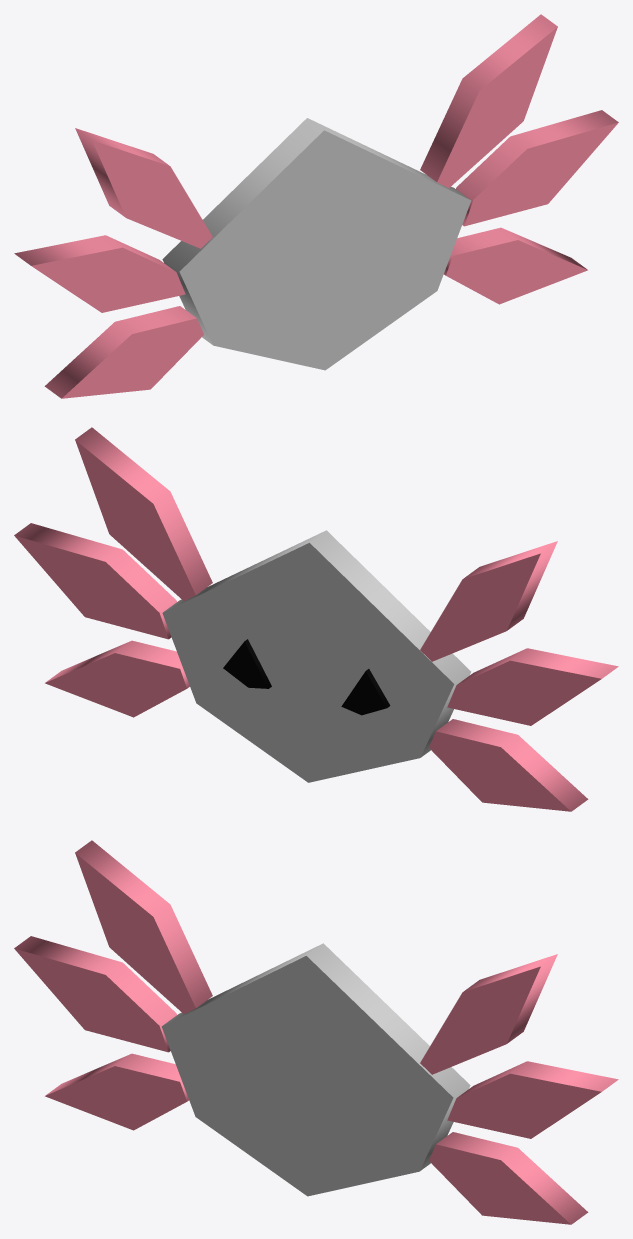
3 views of the same model, one above another, from view 1: azimuth 30°, elevation 25°; view 2: azimuth 150°, elevation 25°; view 3: azimuth 330°, elevation 25° (orthographic).
Visible parts, largest first — view 1: Od; view 2: Od; view 3: Od.
Part boxes in pixels (bbox=[...]): Od: bbox=[14, 14, 618, 398]; Od: bbox=[14, 427, 618, 811]; Od: bbox=[14, 840, 618, 1224].
Size of the model in its own units: 3.99 by 1.86 by 0.2392.
